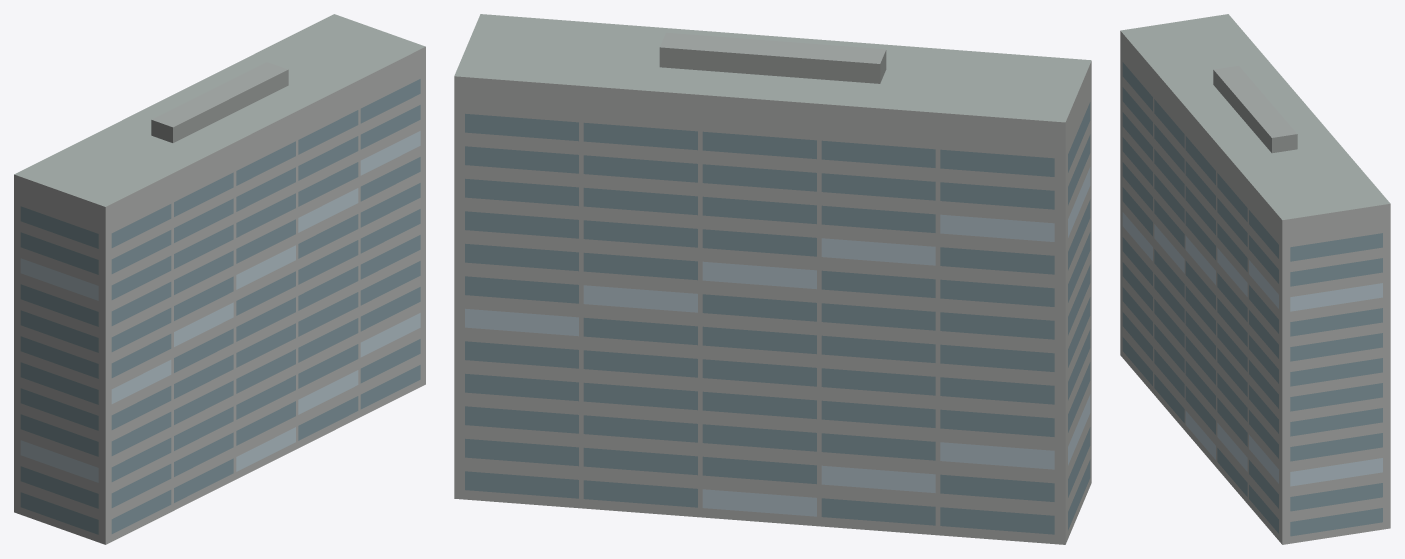
File: fallback-songpa-helio-city-302.glb
The picture shows the model from 3 angles, left to right: view 1: azimuth 30°, elevation 25°; view 2: azimuth 150°, elevation 25°; view 3: azimuth 270°, elevation 25°; orthographic projection. The views are drawn at different scales.
Visible parts, largest first — view 1: fallback-songpa-helio-city-302; view 2: fallback-songpa-helio-city-302; view 3: fallback-songpa-helio-city-302.
Boxes of the visible parts, x1=… form: fallback-songpa-helio-city-302: x1=14, y1=14, x2=425, y2=544; fallback-songpa-helio-city-302: x1=454, y1=14, x2=1091, y2=544; fallback-songpa-helio-city-302: x1=1120, y1=14, x2=1390, y2=544.
Bounding box in the file's own units: 48.13 × 37 × 26.66.
